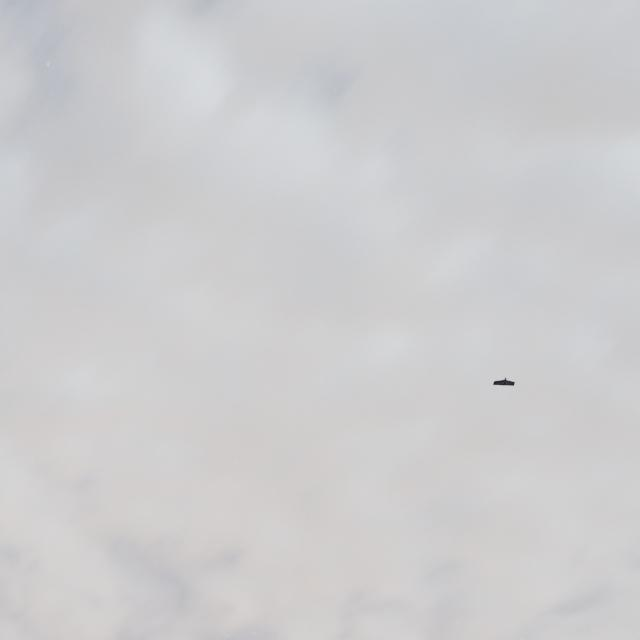Airaplan: (493, 376, 515, 386)
